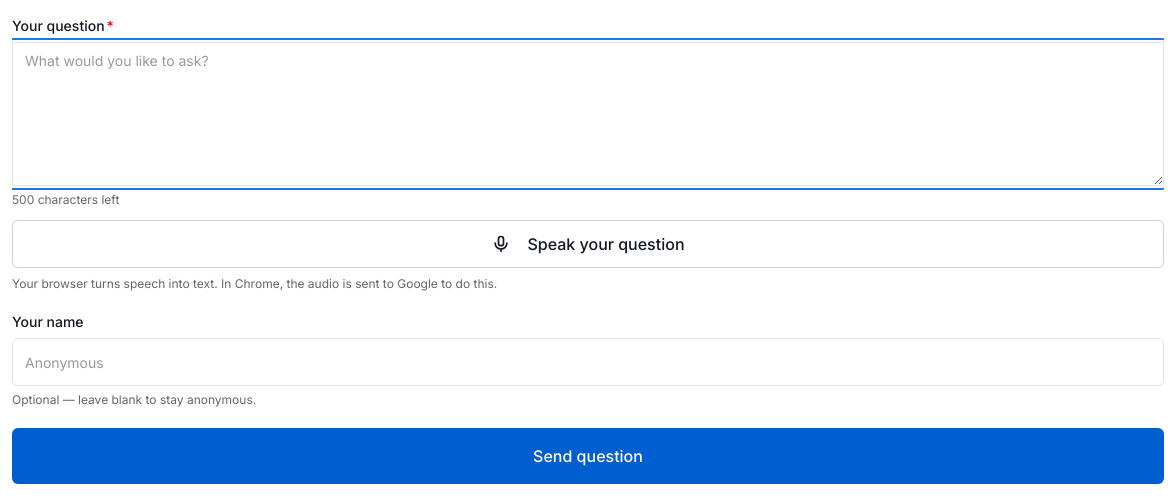
Test: asking a question › submits a question and confirms it clearly
Type "How do you follow up after meeting someone at an event?" into the text box labelled "Your question*" at (588, 114), box [12,42,1164,186]
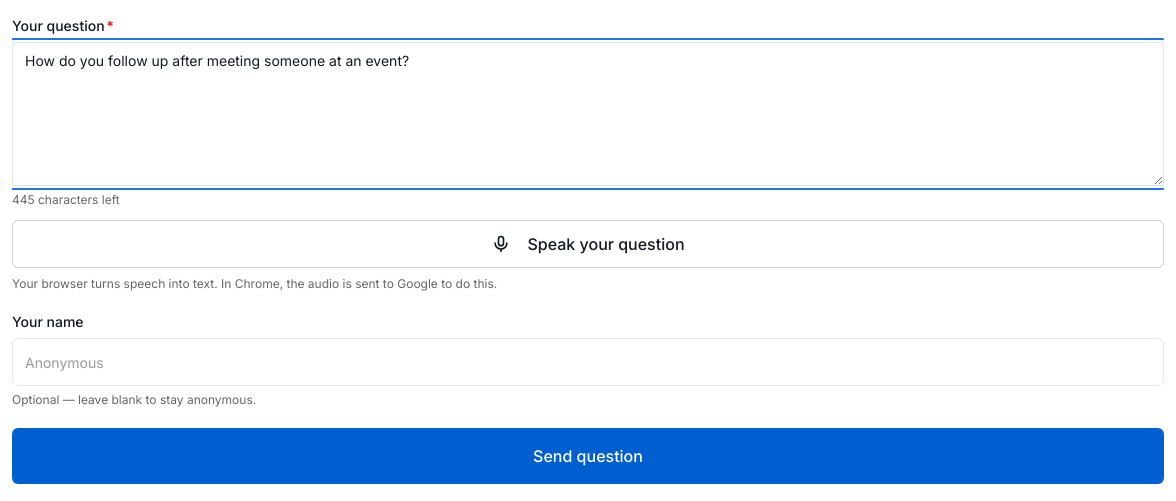
Click the button "Send question" at (588, 456), box [12,428,1164,484]
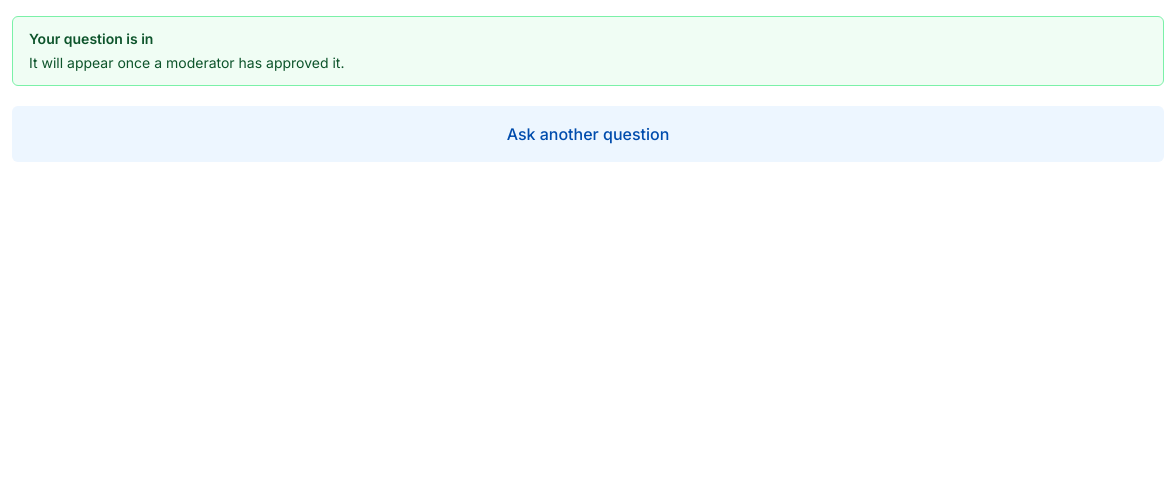
expect the text "Your question is in" is shown: met, box [29,30,153,47]
expect the text "It will appear once a moderator has approved it." is shown: met, box [29,54,344,71]
